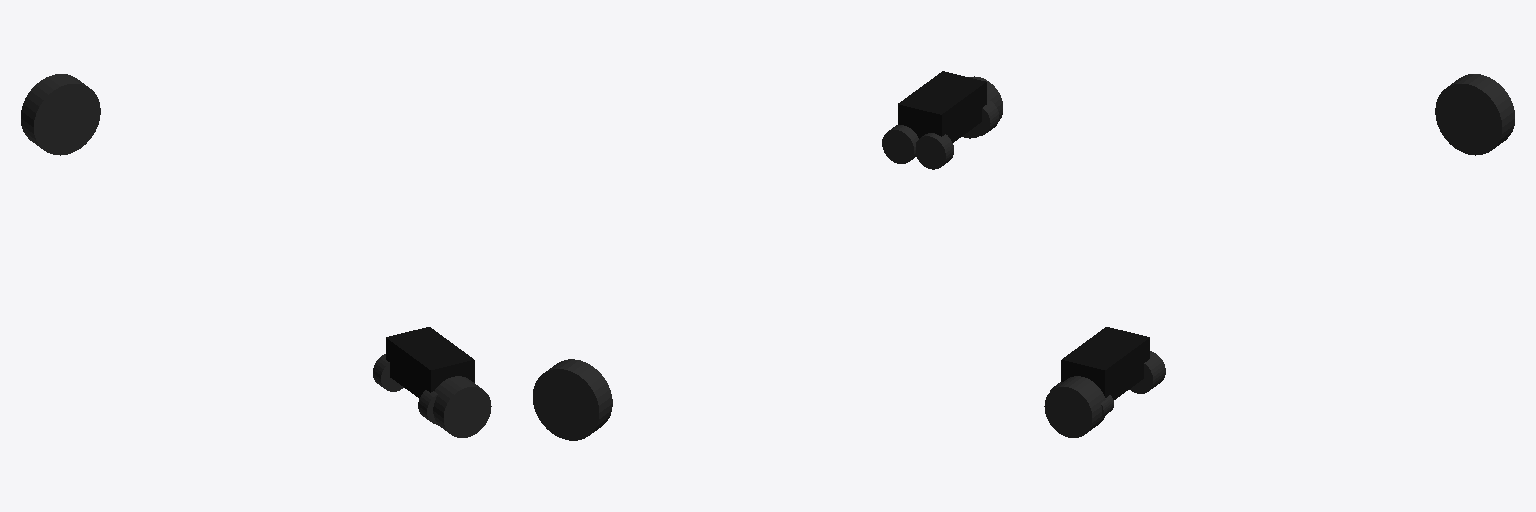
robot.urdf — evolved_robot:
<?xml version="1.0"?>
<robot name="evolved_robot">
  <material name="metal">
    <color rgba="0.7 0.7 0.7 1.0"/>
  </material>
  <material name="plastic">
    <color rgba="0.3 0.3 0.9 1.0"/>
  </material>
  <material name="rubber">
    <color rgba="0.1 0.1 0.1 1.0"/>
  </material>
  <material name="red">
    <color rgba="1.0 0.0 0.0 1.0"/>
  </material>
  <material name="wheel_material">
    <color rgba="0.2 0.2 0.2 1.0"/>
  </material>
  <link name="base_link">
    <visual>
      <geometry><box size="0.1271172208650771 0.22646237024302251 0.10104113379321872"/></geometry>
      <material name="rubber"/>
    </visual>
    <collision>
      <geometry><box size="0.1271172208650771 0.22646237024302251 0.10104113379321872"/></geometry>
    </collision>
    <inertial>
      <mass value="5.0"/>
      <inertia ixx="0.051245429878589106" ixy="0" ixz="0" 
               iyy="0.0219734154655666" iyz="0" 
               izz="0.056203327480457164"/>
    </inertial>
  </link>
  <link name="link1">
    <visual>
      <geometry>
        <cylinder radius="0.04656425696884797" length="0.06288432887679209"/>
      </geometry>
      <material name="wheel_material"/>
    </visual>
    <collision>
      <geometry>
        <cylinder radius="0.04656425696884797" length="0.06288432887679209"/>
      </geometry>
    </collision>
    <inertial>
      <mass value="1.0"/>
      <inertia ixx="0.0008715940749556057" ixy="0" ixz="0" 
               iyy="0.0008715940749556057" iyz="0" 
               izz="0.0010841150135304535"/>
    </inertial>
  </link>
  <joint name="joint1" type="continuous">
    <parent link="base_link"/>
    <child link="link1"/>
    <origin xyz="0.043558610432538544 0.11323118512151126 -0.05052056689660936" rpy="1.5708 0 0"/>
    <axis xyz="0 0 1"/>
    <dynamics damping="0.37027403209200527" friction="0.1"/>
  </joint>
  <link name="link2">
    <visual>
      <geometry>
        <cylinder radius="0.03082077912235869" length="0.05281932802182139"/>
      </geometry>
      <material name="wheel_material"/>
    </visual>
    <collision>
      <geometry>
        <cylinder radius="0.03082077912235869" length="0.05281932802182139"/>
      </geometry>
    </collision>
    <inertial>
      <mass value="1.0"/>
      <inertia ixx="0.00046997022415036917" ixy="0" ixz="0" 
               iyy="0.00046997022415036917" iyz="0" 
               izz="0.0004749602128546106"/>
    </inertial>
  </link>
  <joint name="joint2" type="continuous">
    <parent link="base_link"/>
    <child link="link2"/>
    <origin xyz="0.043558610432538544 -0.11323118512151126 -0.05052056689660936" rpy="1.5708 0 0"/>
    <axis xyz="0 0 1"/>
    <dynamics damping="0.5035738824087321" friction="0.1"/>
  </joint>
  <link name="link3">
    <visual>
      <geometry>
        <cylinder radius="0.0450669920423055" length="0.04177477213593593"/>
      </geometry>
      <material name="wheel_material"/>
    </visual>
    <collision>
      <geometry>
        <cylinder radius="0.0450669920423055" length="0.04177477213593593"/>
      </geometry>
    </collision>
    <inertial>
      <mass value="1.0"/>
      <inertia ixx="0.0006531860751860875" ixy="0" ixz="0" 
               iyy="0.0006531860751860875" iyz="0" 
               izz="0.0010155168858706136"/>
    </inertial>
  </link>
  <joint name="joint3" type="fixed">
    <parent link="base_link"/>
    <child link="link3"/>
    <origin xyz="-0.043558610432538544 0.11323118512151126 -0.05052056689660936" rpy="1.5708 0 0"/>
    <axis xyz="0 0 1"/>
    <dynamics damping="0.4859637834183663" friction="0.1"/>
  </joint>
  <link name="link4">
    <visual>
      <geometry>
        <cylinder radius="0.043726578781473284" length="0.04440150144429221"/>
      </geometry>
      <material name="wheel_material"/>
    </visual>
    <collision>
      <geometry>
        <cylinder radius="0.043726578781473284" length="0.04440150144429221"/>
      </geometry>
    </collision>
    <inertial>
      <mass value="1.0"/>
      <inertia ixx="0.000642294533858721" ixy="0" ixz="0" 
               iyy="0.000642294533858721" iyz="0" 
               izz="0.0009560068459661948"/>
    </inertial>
  </link>
  <joint name="joint4" type="fixed">
    <parent link="base_link"/>
    <child link="link4"/>
    <origin xyz="-0.043558610432538544 -0.11323118512151126 -0.05052056689660936" rpy="1.5708 0 0"/>
    <axis xyz="0 0 1"/>
    <dynamics damping="0.49021788711415504" friction="0.1"/>
  </joint>
  <link name="link5">
    <visual>
      <geometry>
        <cylinder radius="0.033314466189741966" length="0.05685122888841561"/>
      </geometry>
      <material name="wheel_material"/>
    </visual>
    <collision>
      <geometry>
        <cylinder radius="0.033314466189741966" length="0.05685122888841561"/>
      </geometry>
    </collision>
    <inertial>
      <mass value="1.0"/>
      <inertia ixx="0.0005468019332204503" ixy="0" ixz="0" 
               iyy="0.0005468019332204503" iyz="0" 
               izz="0.0005549268287537303"/>
    </inertial>
  </link>
  <joint name="joint5" type="fixed">
    <parent link="base_link"/>
    <child link="link5"/>
    <origin xyz="0 -0.15097491349534833 -0.05052056689660936" rpy="1.5708 0 0"/>
    <axis xyz="0 0 1"/>
    <dynamics damping="0.5833446966596528" friction="0.1"/>
  </joint>
  <link name="link6">
    <visual>
      <geometry>
        <cylinder radius="0.09687750135639556" length="0.06665745577700463"/>
      </geometry>
      <material name="wheel_material"/>
    </visual>
    <collision>
      <geometry>
        <cylinder radius="0.09687750135639556" length="0.06665745577700463"/>
      </geometry>
    </collision>
    <inertial>
      <mass value="1.0"/>
      <inertia ixx="0.0027165806014865495" ixy="0" ixz="0" 
               iyy="0.0027165806014865495" iyz="0" 
               izz="0.004692625134529211"/>
    </inertial>
  </link>
  <joint name="joint6" type="fixed">
    <parent link="base_link"/>
    <child link="link6"/>
    <origin xyz="0 1.8490250865046516 -0.05052056689660936" rpy="1.5708 0 0"/>
    <axis xyz="0 0 1"/>
    <dynamics damping="0.11757343095940734" friction="0.1"/>
  </joint>
  <link name="link7">
    <visual>
      <geometry>
        <cylinder radius="0.06938348610648991" length="0.07205880593907205"/>
      </geometry>
      <material name="wheel_material"/>
    </visual>
    <collision>
      <geometry>
        <cylinder radius="0.06938348610648991" length="0.07205880593907205"/>
      </geometry>
    </collision>
    <inertial>
      <mass value="1.0"/>
      <inertia ixx="0.00163622299551944" ixy="0" ixz="0" 
               iyy="0.00163622299551944" iyz="0" 
               izz="0.002407034072144739"/>
    </inertial>
  </link>
  <joint name="joint7" type="continuous">
    <parent link="base_link"/>
    <child link="link7"/>
    <origin xyz="0 -0.15097491349534833 -0.05052056689660936" rpy="1.5708 0 0"/>
    <axis xyz="0 0 1"/>
    <dynamics damping="0.11791119014952496" friction="0.1"/>
  </joint>
</robot>

--- Render facts (derived) ---
The picture shows the robot from 3 angles, left to right: view 1: azimuth 30°, elevation 25°; view 2: azimuth 150°, elevation 25°; view 3: azimuth 330°, elevation 25°; orthographic projection.
Model evolved_robot with 8 links and 7 joints (3 continuous, 4 fixed), rooted at base_link, posed every joint at zero.
Visible links, largest first — view 1: link6, base_link, link7, link3; view 2: link6, base_link, link3, link1, link4; view 3: link6, base_link, link7, link1.
Link boxes in pixels (x1,y1,x2,y2): link6: (21, 74, 100, 155); base_link: (386, 327, 474, 398); link7: (433, 376, 491, 437); link3: (373, 354, 403, 391); link6: (533, 359, 612, 440); base_link: (898, 71, 986, 142); link3: (916, 133, 953, 169); link1: (882, 125, 918, 163); link4: (969, 99, 998, 135); link6: (1435, 74, 1514, 155); base_link: (1061, 327, 1149, 399); link7: (1044, 376, 1105, 437); link1: (1129, 351, 1165, 393).
Bounding box of the posed robot: 0.1938 × 2.07 × 0.1979 m (x, y, z).
Geometry: primitives only (box / cylinder / sphere), no mesh files.